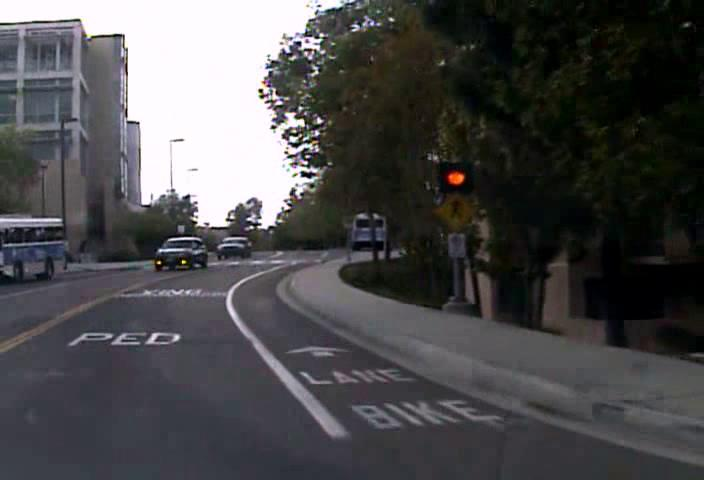pedestrianCrossing: (434, 191, 475, 231)
